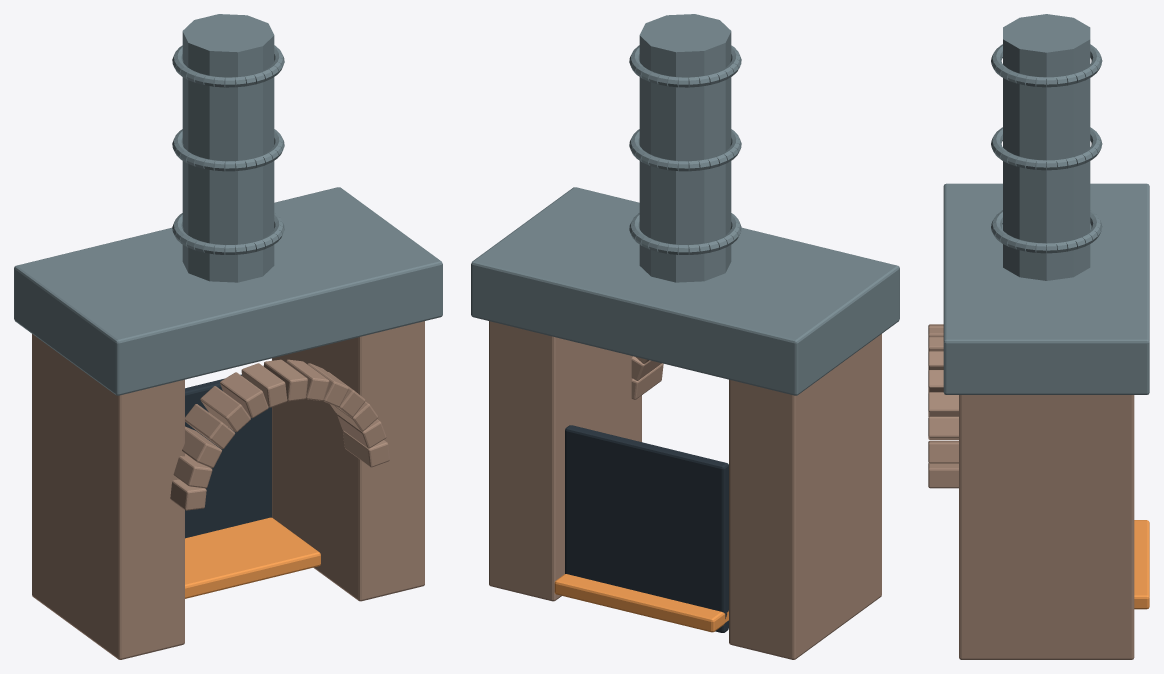
Rendered from a2_hero.glb.
3 renders of one model, left to right at view 1: azimuth 30°, elevation 25°; view 2: azimuth 150°, elevation 25°; view 3: azimuth 270°, elevation 25°, orthographic.
Parts seen in each view (by area): view 1: Body.012; view 2: Body.012; view 3: Body.012.
Boxes of the visible parts, x1,y1,x2,y2 form: Body.012: (14, 14, 442, 659); Body.012: (471, 14, 899, 659); Body.012: (928, 14, 1149, 659).
Bounding box in the file's own units: 2.45 × 4 × 1.45.
